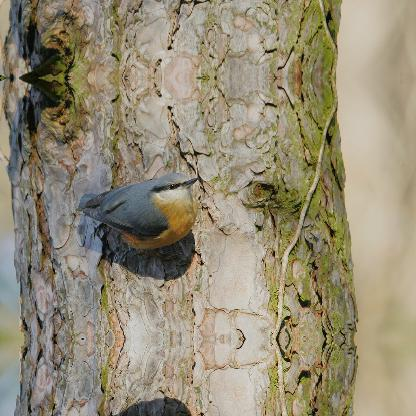Bird: (75, 172, 199, 260)
